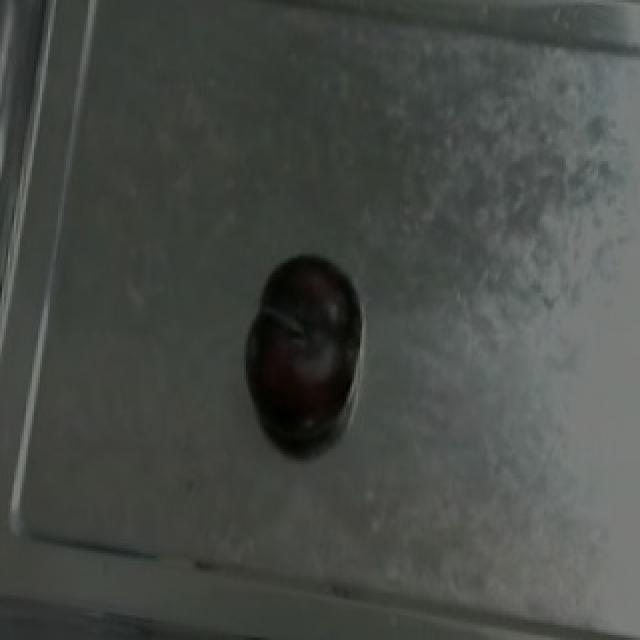Fruit: (234, 243, 366, 447)
